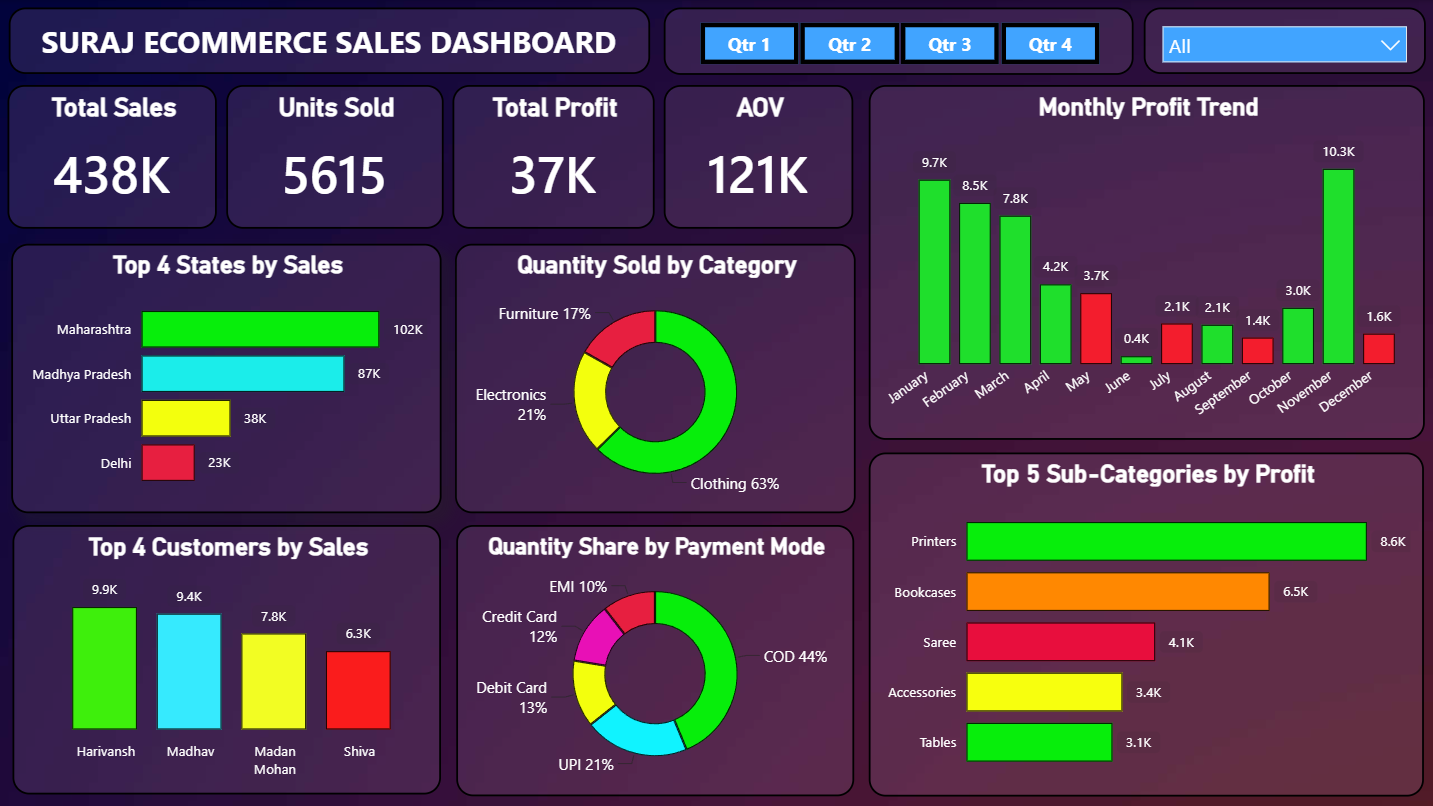

This screenshot's page, from the dashboard's own definition file:
{"tool":"powerbi","page":{"name":"Dashboard","canvas":[1280,720],"ordinal":0},"visuals":[{"type":"textbox","box":[8.2,6.9,570.8,59],"z":0},{"type":"columnChart","title":"Monthly Profit Trend","fields":{"Category":["Orders.Order Date.Variation.Date Hierarchy.Month"],"Y":["Details.Profit Loss Amount"]},"box":[773.9,75.5,495.4,315.6],"z":1000},{"type":"barChart","title":"Top 5 Sub-Categories by Profit","fields":{"Category":["Details.Sub-Category"],"Y":["Sum(Details.Profit)"]},"box":[773.3,403,494.6,306.4],"z":2000},{"type":"donutChart","title":"Quantity Sold by Category","fields":{"Category":["Details.Category"],"Y":["Sum(Details.Quantity)"]},"box":[404.8,216.8,356.8,240.1],"z":3000},{"type":"donutChart","title":"Quantity Share by Payment Mode","fields":{"Y":["Sum(Details.Quantity)"],"Category":["Details.PaymentMode"]},"box":[406.2,467.9,354,241.5],"z":4000},{"type":"cardVisual","title":"Total Sales","fields":{"Data":["Sum(Details.Amount)"]},"box":[6.9,75.5,186.6,127.6],"z":5000},{"type":"cardVisual","title":"Units Sold","fields":{"Data":["Sum(Details.Quantity)"]},"box":[201.7,75.5,193.5,127.6],"z":6000},{"type":"cardVisual","title":"Total Profit","fields":{"Data":["Sum(Details.Profit)"]},"box":[403.4,75.5,179.8,127.6],"z":7000},{"type":"cardVisual","title":"AOV","fields":{"Data":["Sum(Details.AOV)"]},"box":[591.4,75.5,168.8,127.6],"z":8000},{"type":"barChart","title":"Top 4 States by Sales","fields":{"Category":["Orders.State"],"Y":["Sum(Details.Amount)"]},"box":[9.6,216.8,382.8,240.1],"z":9000},{"type":"columnChart","title":"Top 4 Customers by Sales","fields":{"Category":["Orders.CustomerName"],"Y":["Sum(Details.Amount)"]},"box":[11,467.9,381.5,240.1],"z":10000},{"type":"slicer","fields":{"Values":["Orders.Order Date.Variation.Date Hierarchy.Quarter"]},"box":[591.4,6.9,418.5,60.4],"z":11000},{"type":"slicer","fields":{"Values":["Orders.State"]},"box":[1018.2,6.9,251.1,59],"z":12000}]}

Visuals, with their boxes in screenshot pixels (x1, y1, x2, y2), scaled from the page's 1280x720 canvas onto the 1433x806 screenshot:
textbox: <region>9, 8, 648, 74</region>
"Monthly Profit Trend" columnChart: <region>866, 85, 1421, 438</region>
"Top 5 Sub-Categories by Profit" barChart: <region>866, 451, 1419, 794</region>
"Quantity Sold by Category" donutChart: <region>453, 243, 853, 511</region>
"Quantity Share by Payment Mode" donutChart: <region>455, 524, 851, 794</region>
"Total Sales" cardVisual: <region>8, 85, 217, 227</region>
"Units Sold" cardVisual: <region>226, 85, 442, 227</region>
"Total Profit" cardVisual: <region>452, 85, 653, 227</region>
"AOV" cardVisual: <region>662, 85, 851, 227</region>
"Top 4 States by Sales" barChart: <region>11, 243, 439, 511</region>
"Top 4 Customers by Sales" columnChart: <region>12, 524, 439, 793</region>
slicer - Orders.Order Date.Variation.Date Hierarchy.Quarter: <region>662, 8, 1131, 75</region>
slicer - Orders.State: <region>1140, 8, 1421, 74</region>
